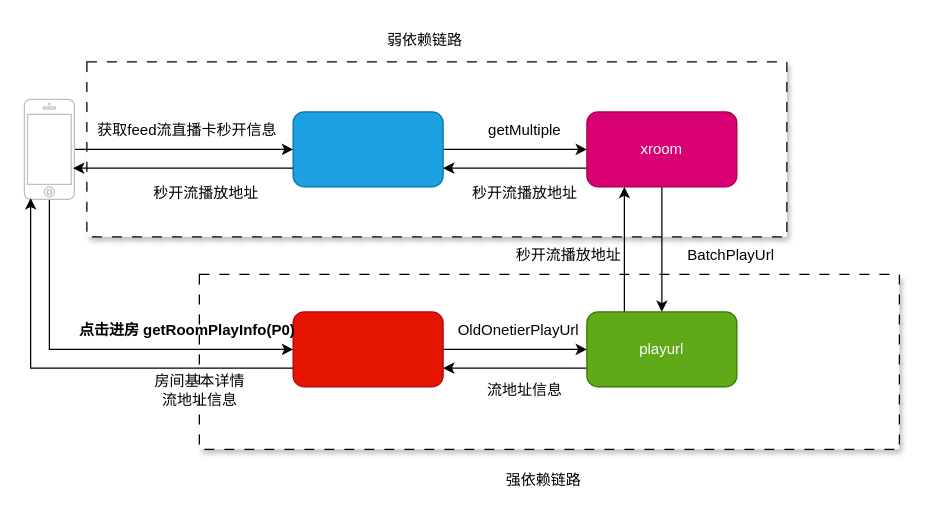
The diagram is 929 pixels wide and 520 high, and some of its shapes have lost their labels. The shapes that lost their labels are listed below. From the top down, each one's centre as x and y in pixels, then its label:
At (x=367, y=149): "天马、直播首页 动态、搜索、tab页网关".
At (x=367, y=349): "app-room".
